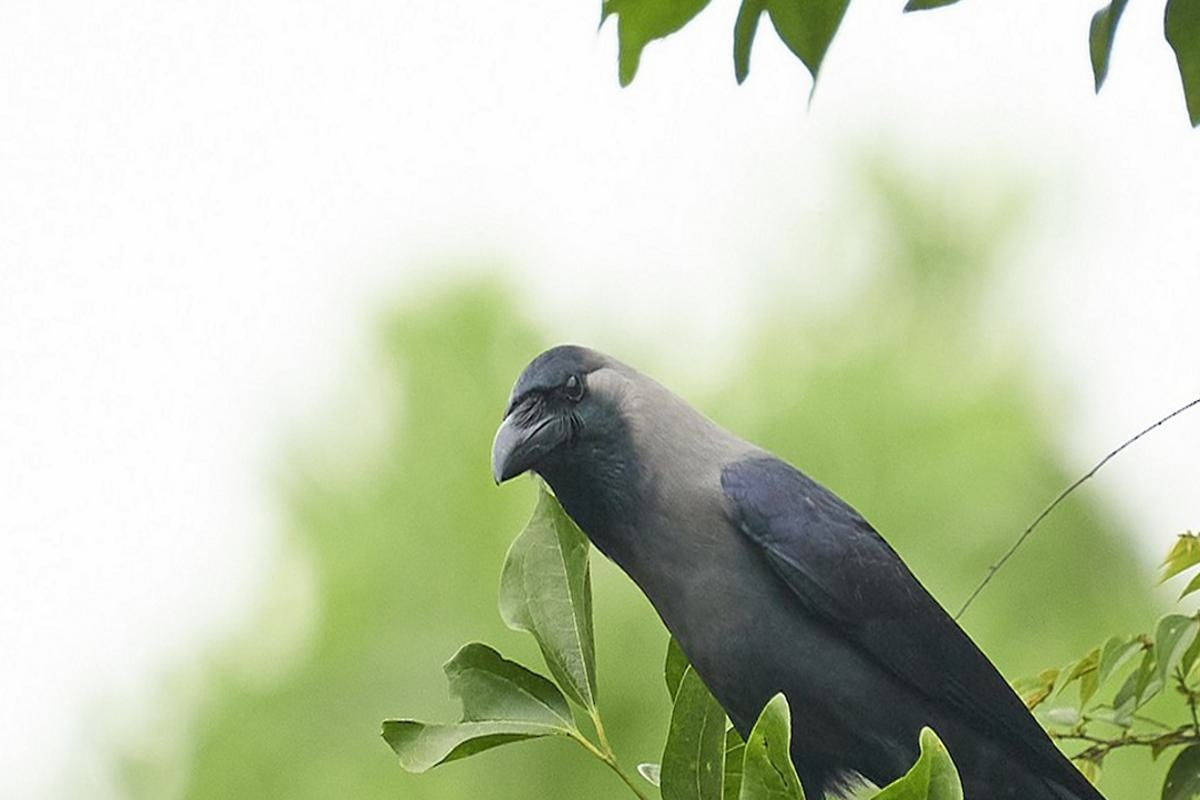crow: (477, 325, 1098, 800)
